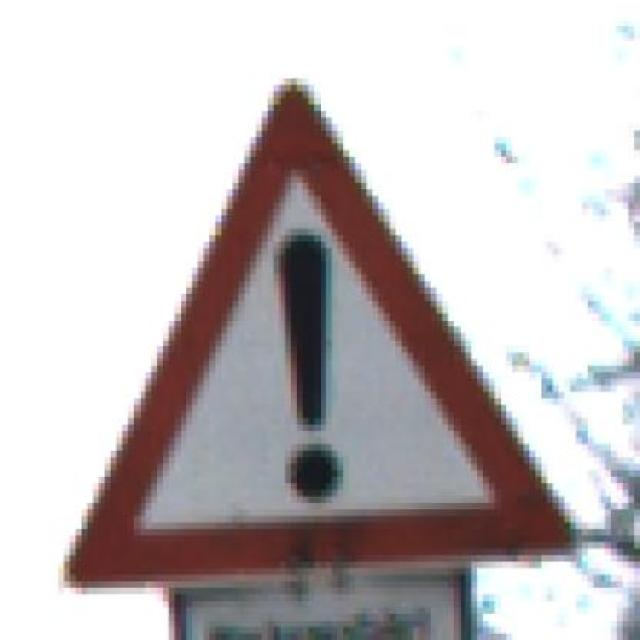Attention Please-: (58, 65, 599, 588)
